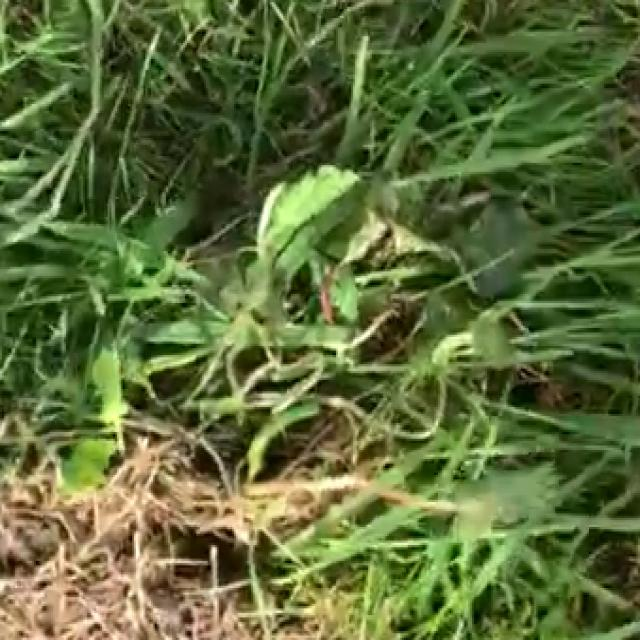organic waste: (110, 134, 589, 486)
